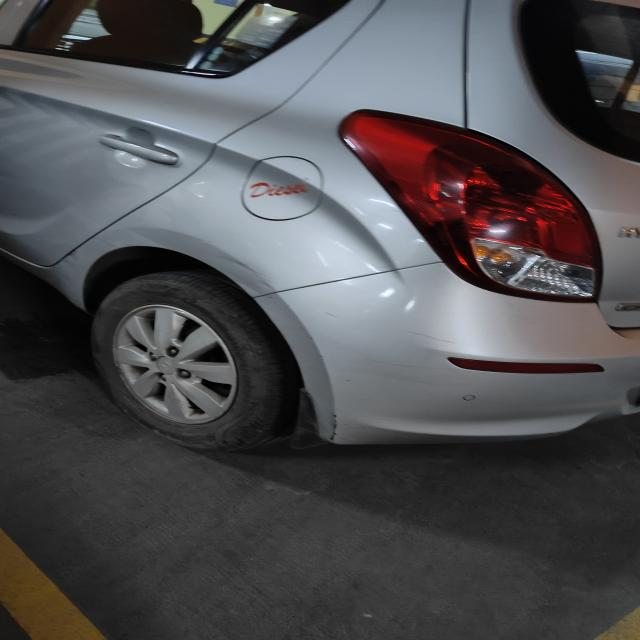scratch: (194, 236, 276, 298), (354, 353, 483, 388), (386, 330, 471, 348), (316, 306, 347, 324)
